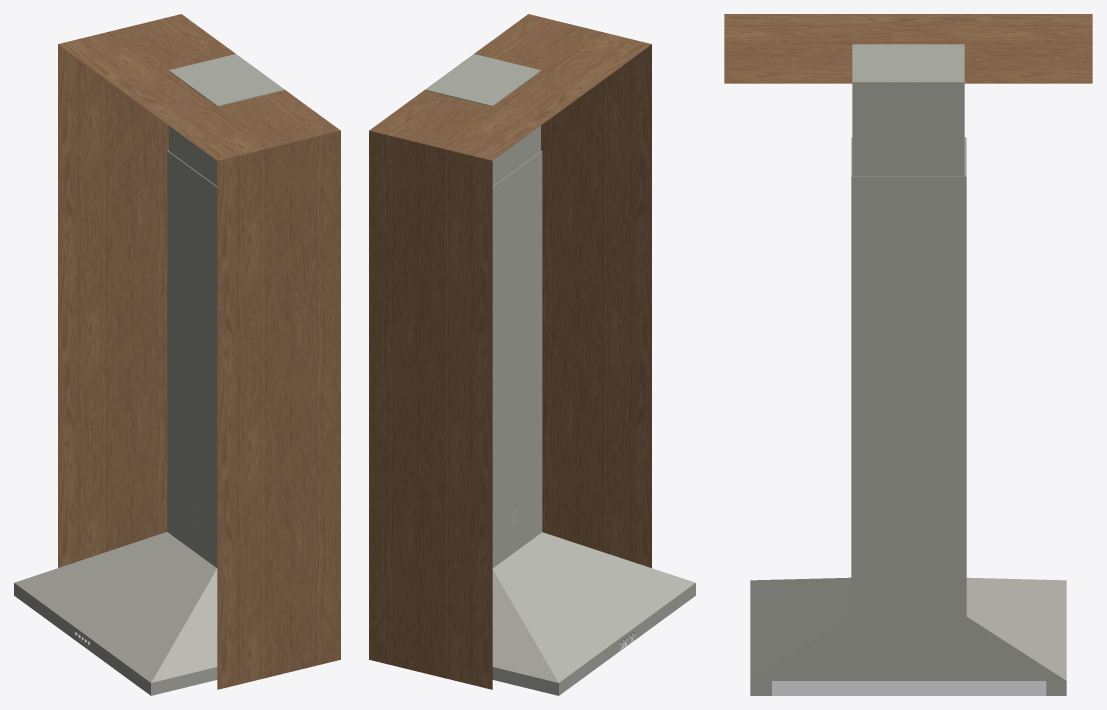
File: furniture_1.glb
3 renders of one model, left to right at view 1: azimuth 30°, elevation 25°; view 2: azimuth 150°, elevation 25°; view 3: azimuth 270°, elevation 25°, orthographic. The views are drawn at different scales.
Parts seen in each view (by area): view 1: GF_CFG_HoodNiche, GF_rangeHood01; view 2: GF_CFG_HoodNiche, GF_rangeHood01; view 3: GF_rangeHood01, GF_CFG_HoodNiche.
Boxes of the visible parts, left/top/right/bottom form: GF_CFG_HoodNiche: left=58, top=14, right=340, bottom=689; GF_rangeHood01: left=14, top=54, right=284, bottom=695; GF_CFG_HoodNiche: left=369, top=14, right=651, bottom=689; GF_rangeHood01: left=425, top=54, right=695, bottom=695; GF_rangeHood01: left=750, top=44, right=1066, bottom=695; GF_CFG_HoodNiche: left=724, top=14, right=1092, bottom=83.
Size of the model in its own units: 0.4512 by 1.28 by 0.6973.
Materials: 9 (4 with a texture image).
